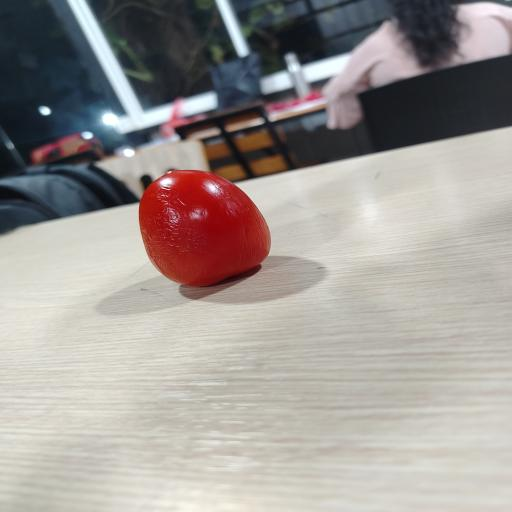spoiled: (139, 170, 271, 286)
